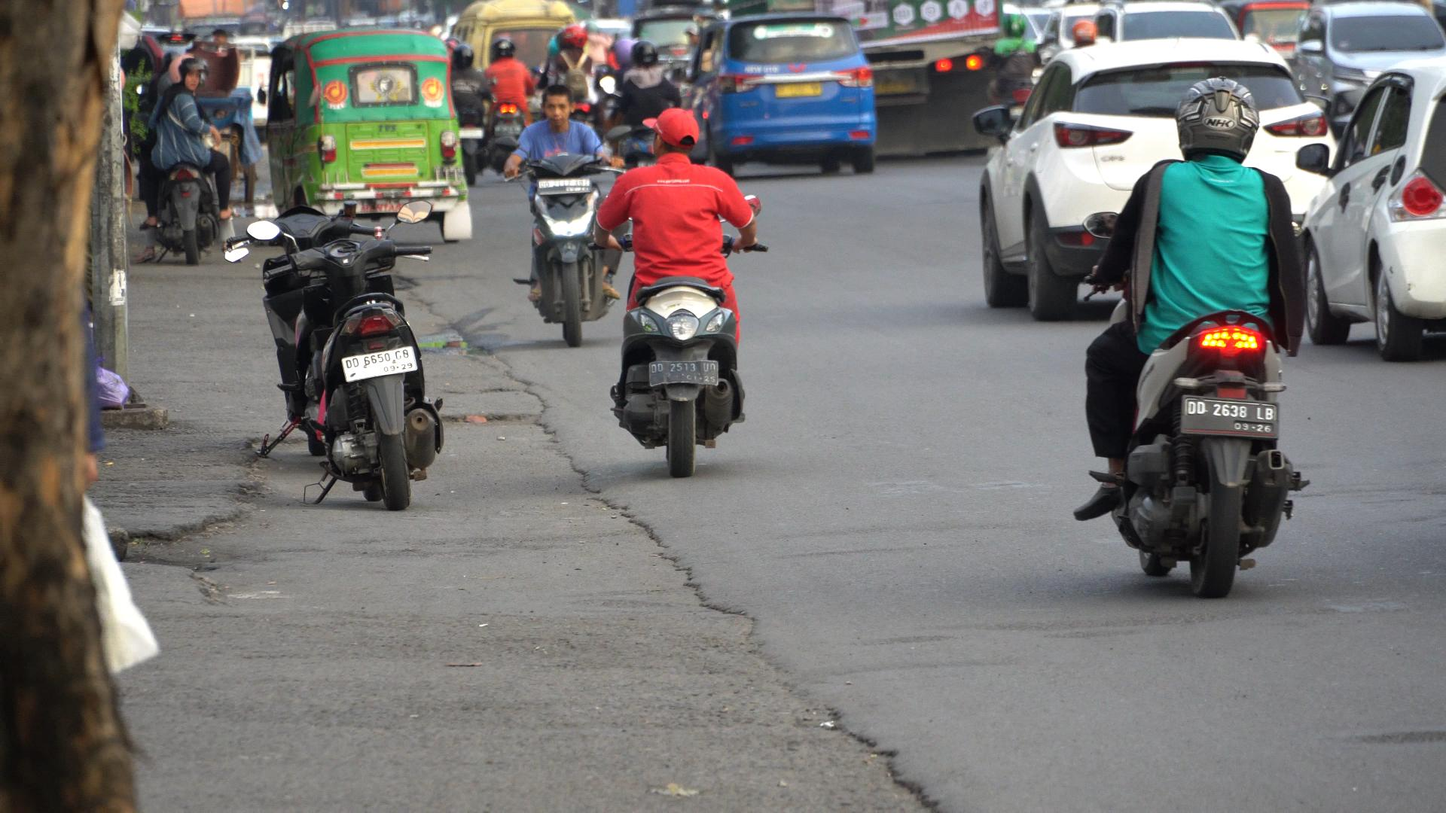number-plate: (535, 173, 593, 197)
